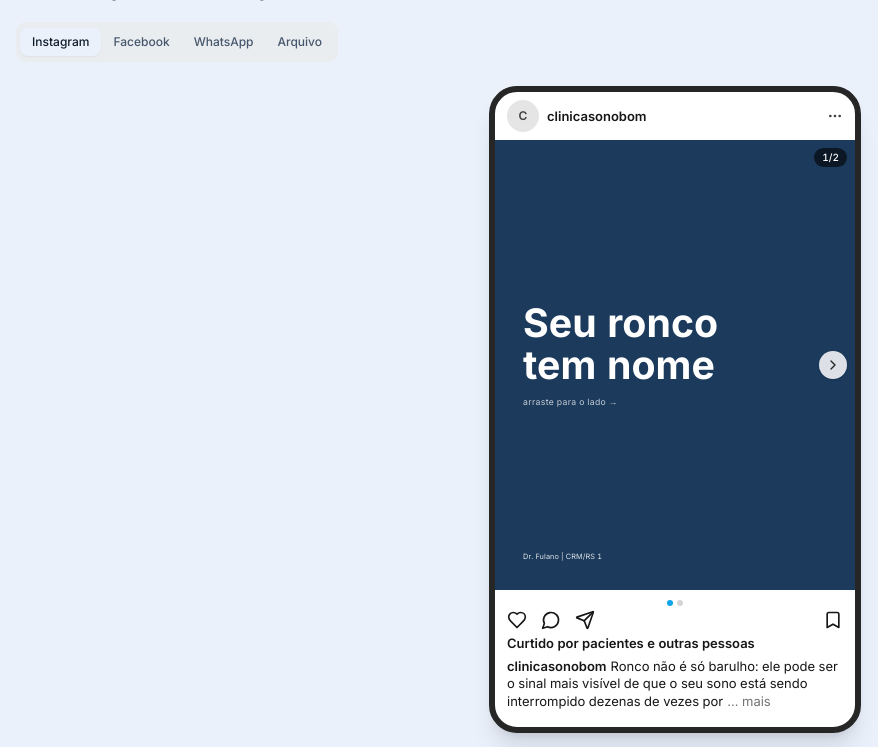
it: Oficina › Artes Salvas › no Instagram, a legenda para no 'mais'; o Facebook mostra 'Compartilhar'
(page scrolled)
Click the button "… mais". click: {"x": 749, "y": 702}
box: [727, 693, 771, 711]
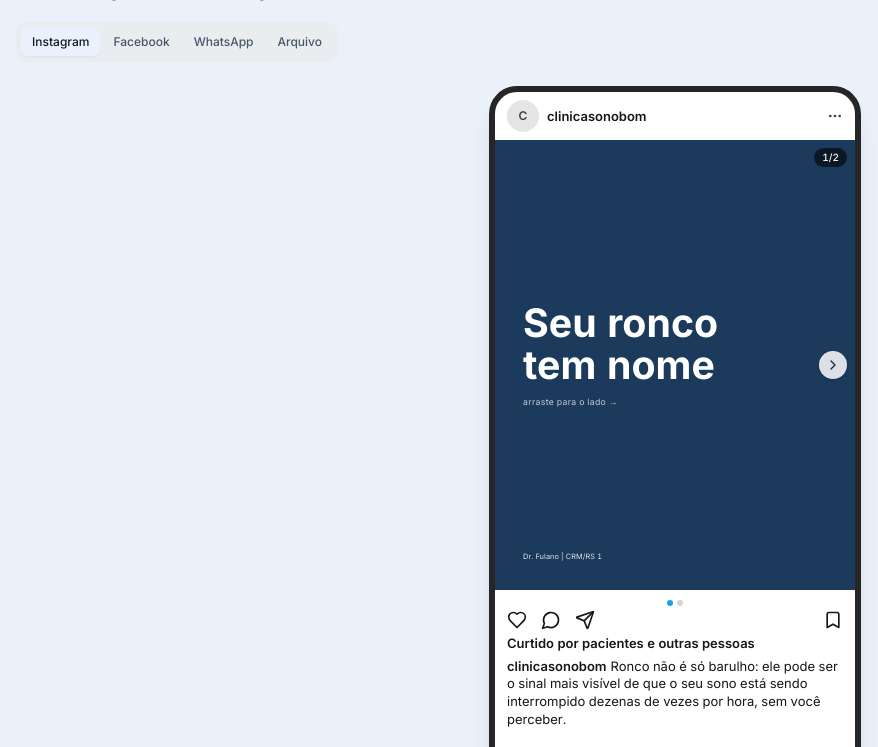
# O Radix troca de aba no mousedown, não no click.
Press the mouse on the tab "Facebook" at {"x": 142, "y": 42}, box [101, 28, 182, 56]
(page scrolled)
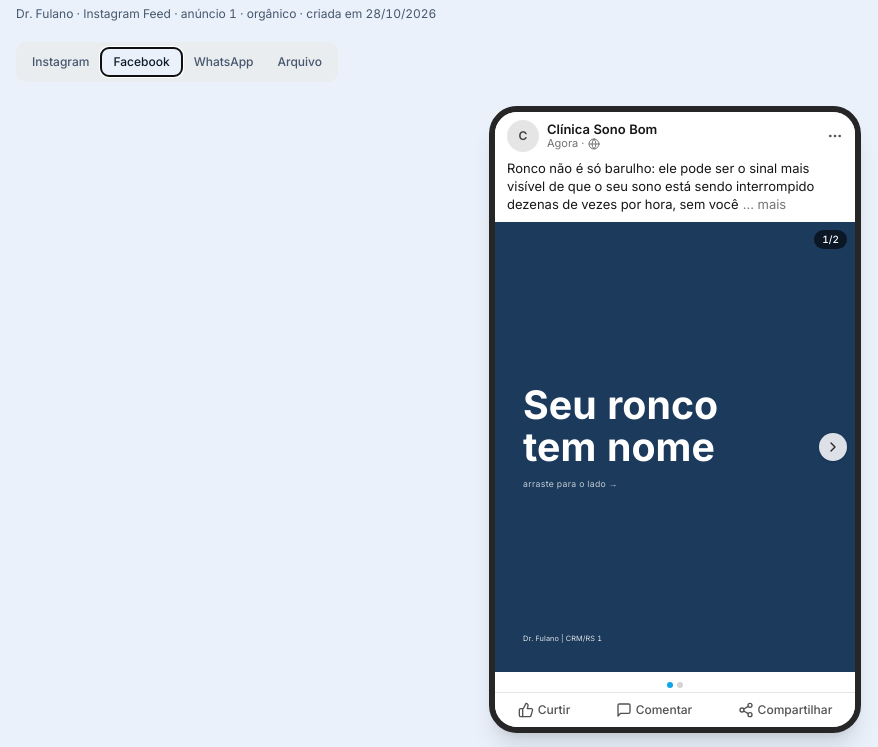
Now the text "Compartilhar" is shown, box [738, 701, 832, 719]
